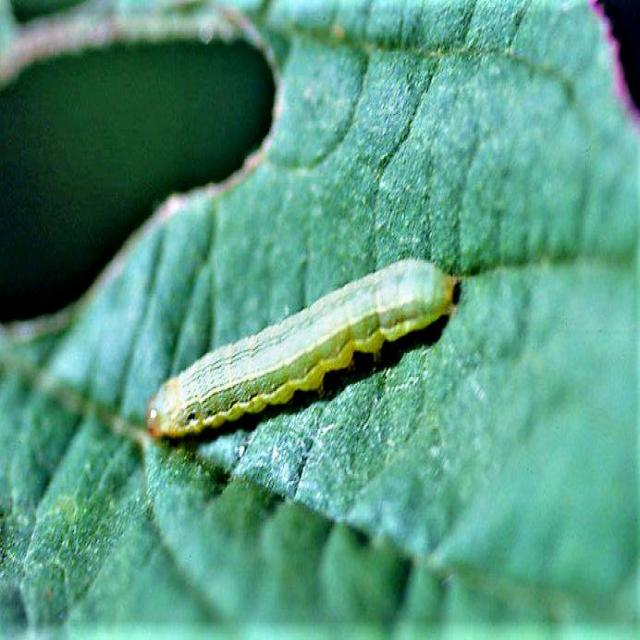Armyworm: (137, 255, 476, 479)
